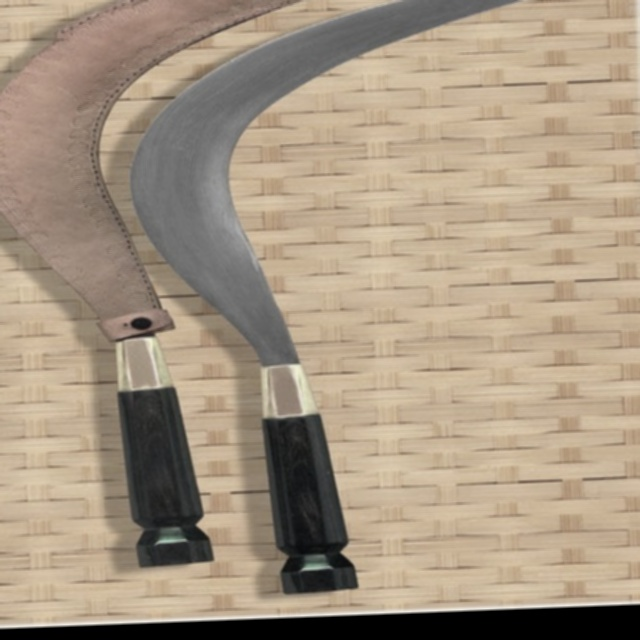Sharp-Object: (107, 0, 640, 613)
